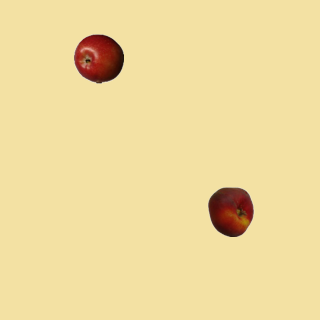Apple Braeburn: (73, 33, 123, 83)
Nectarine Flat: (205, 186, 255, 236)
